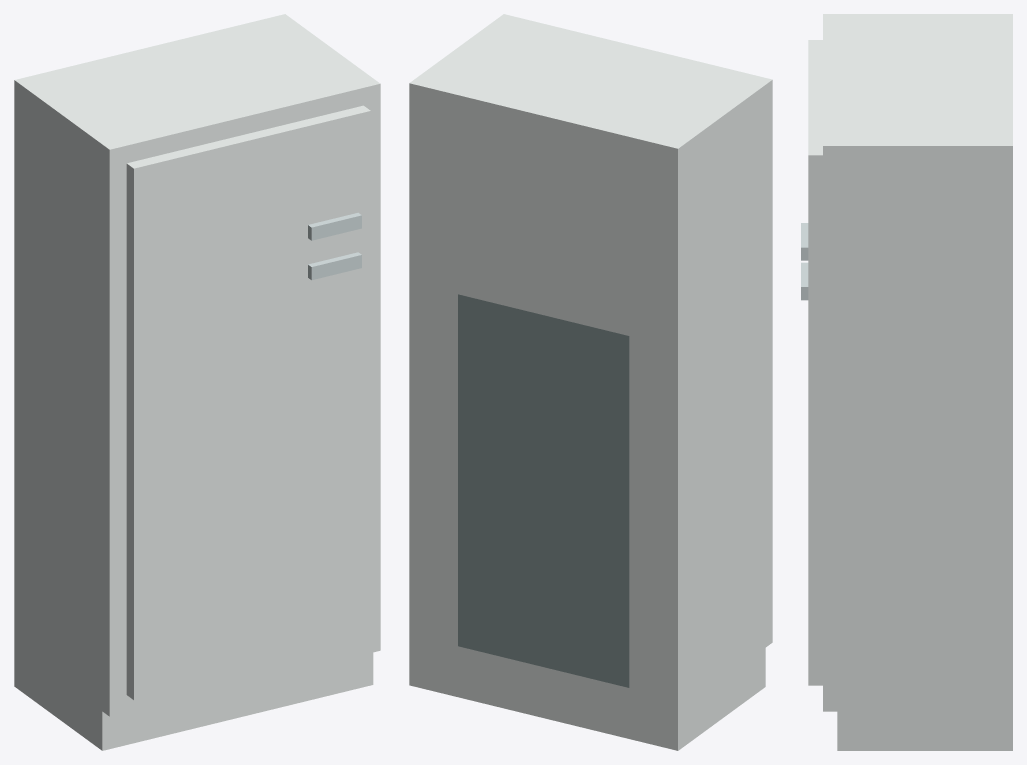
Rendered from furn_ifridge.glb.
The picture shows the model from 3 angles, left to right: view 1: azimuth 30°, elevation 25°; view 2: azimuth 150°, elevation 25°; view 3: azimuth 270°, elevation 25°; orthographic projection.
Parts seen in each view (by area): view 1: kitchenFridge(Clone); view 2: kitchenFridge(Clone); view 3: kitchenFridge(Clone).
Boxes of the visible parts, x1,y1,x2,y2 form: kitchenFridge(Clone): [14, 14, 380, 750]; kitchenFridge(Clone): [409, 14, 772, 750]; kitchenFridge(Clone): [801, 14, 1012, 750].
Bounding box in the file's own units: 0.4299 × 0.92 × 0.2919.
2 materials, 2 textured.
